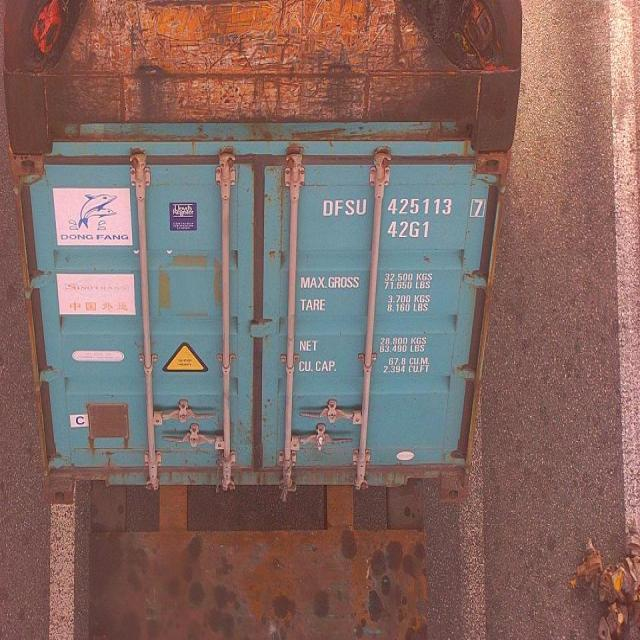ISO: (389, 224, 428, 241)
container_number: (323, 196, 484, 217)
